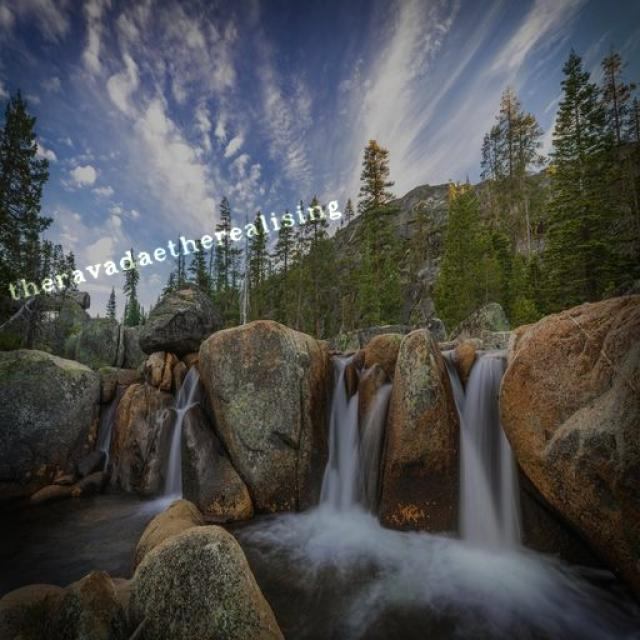watermark: (2, 192, 342, 304)
